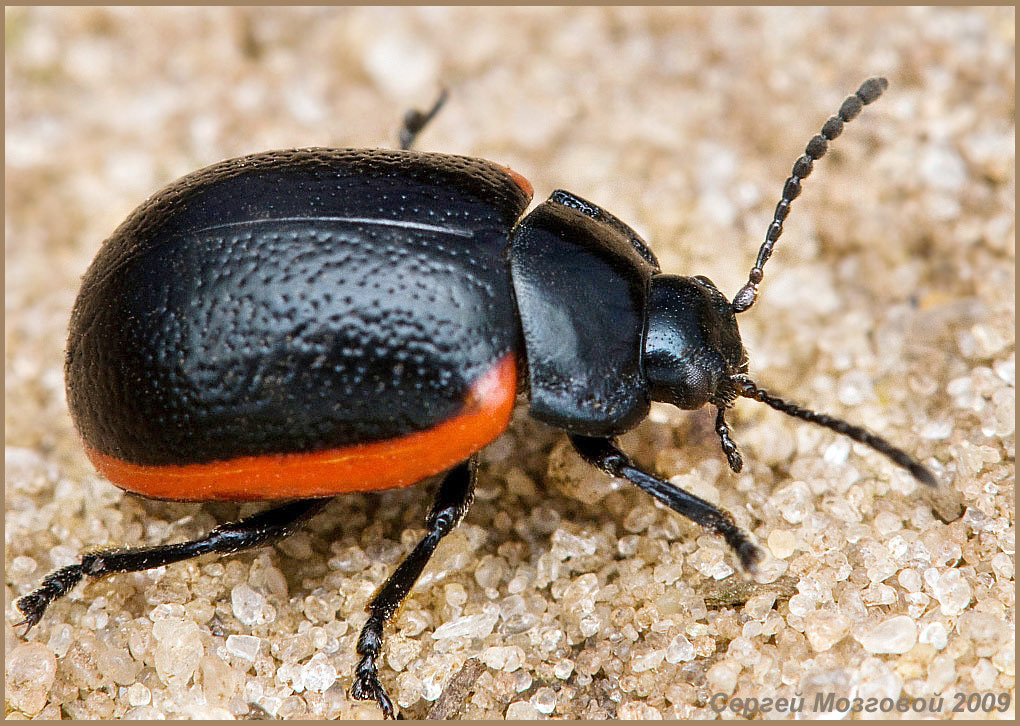Chrysolina_gypsophila: (12, 43, 950, 710)
